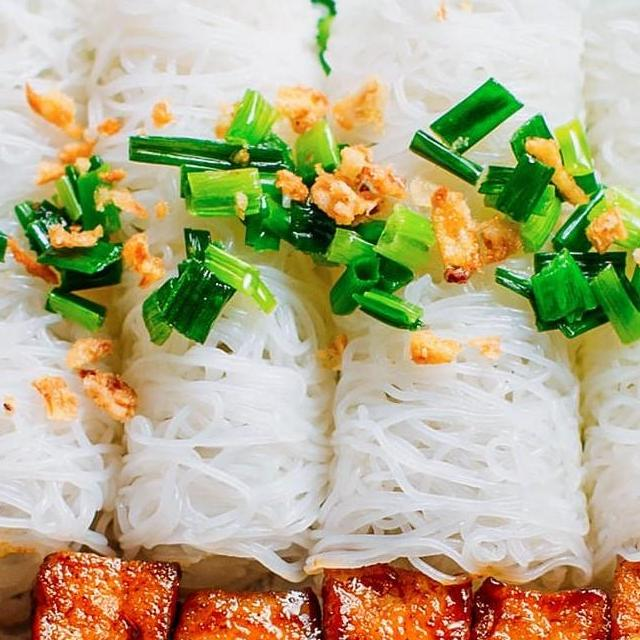banh hoi: (301, 0, 612, 609), (81, 0, 356, 605), (0, 0, 142, 614)
